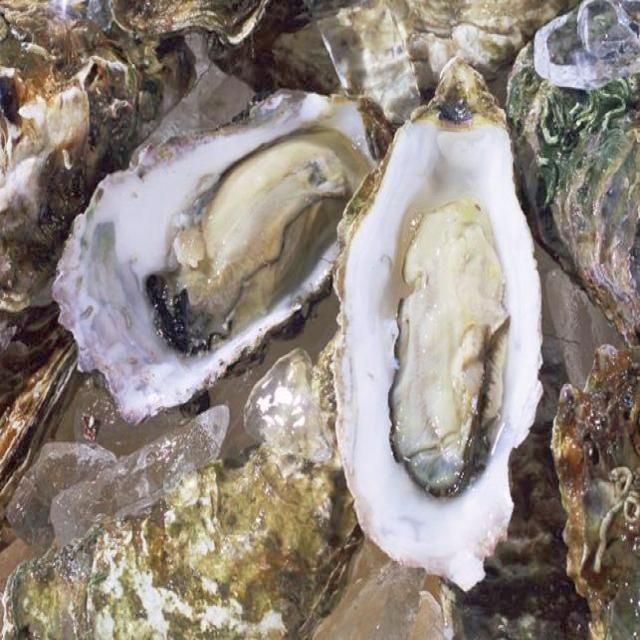Oyster-Closed: (0, 436, 334, 640)
Oyster-Open: (51, 87, 397, 425), (331, 56, 547, 592)
